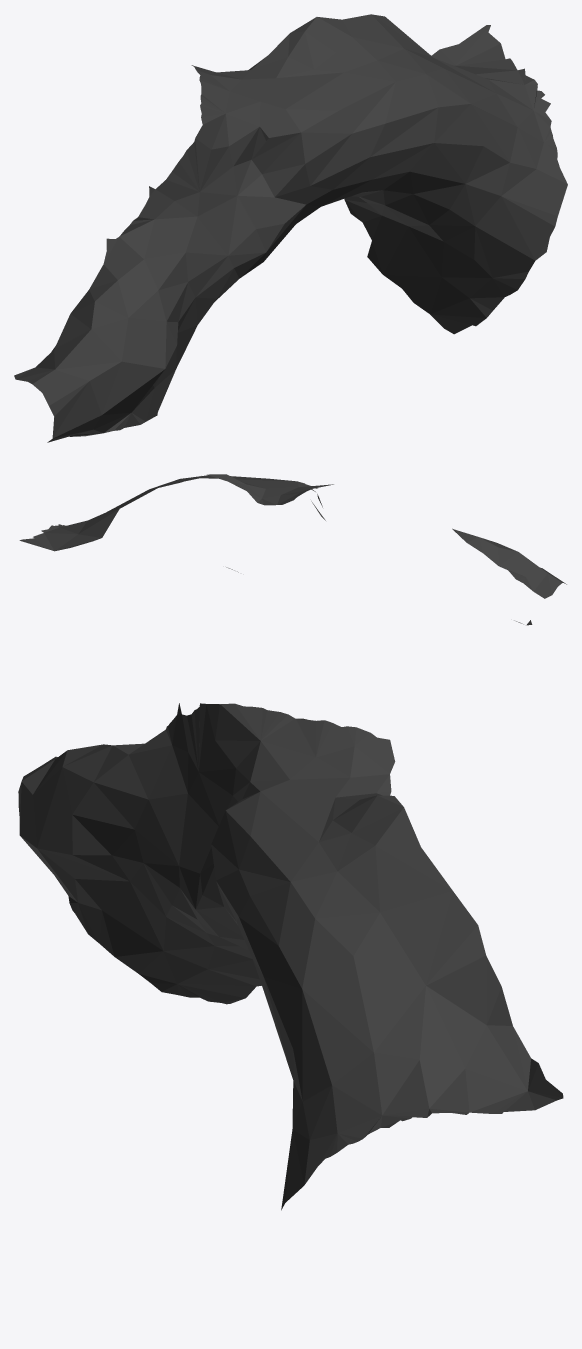
Rendered from A_brachiocephalic_trunk_A_brachiocephalic_trunk.glb.
3 views of the same model, one above another, from view 1: azimuth 30°, elevation 25°; view 2: azimuth 150°, elevation 25°; view 3: azimuth 270°, elevation 25° (orthographic). The views are drawn at different scales.
Parts seen in each view (by area): view 1: A_brachiocephalic_trunk_A_brachiocephalic_trunk; view 2: A_brachiocephalic_trunk_A_brachiocephalic_trunk; view 3: A_brachiocephalic_trunk_A_brachiocephalic_trunk.
Boxes of the visible parts, x1,y1,x2,y2 form: A_brachiocephalic_trunk_A_brachiocephalic_trunk: (14,14,567,442); A_brachiocephalic_trunk_A_brachiocephalic_trunk: (19,474,566,625); A_brachiocephalic_trunk_A_brachiocephalic_trunk: (18,703,563,1210).
Size of the model in its own units: 0.0239 by 0.012 by 0.0133.
1 material, 1 textured.
